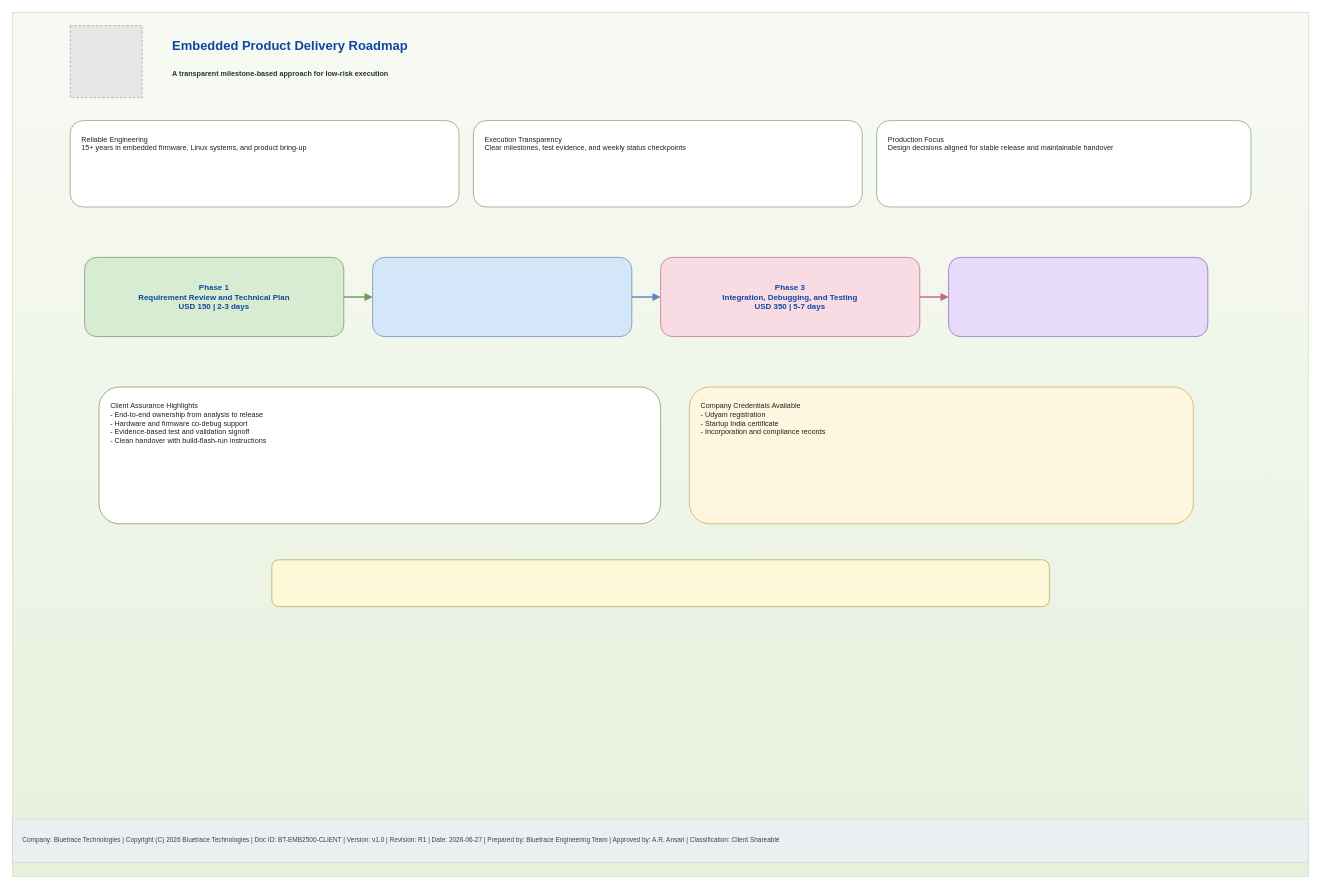
The diagram is 1321 pixels wide and 889 high, and some of its shapes have lost their labels. Grey dashed boxes stand in for pictures. Here are the shapes that lost their labels. From the top down, the centre of each, then its label:
the point at 502,297: Phase 2 Core Firmware or Software Development USD 350 | 5-7 days
the point at 1078,297: Phase 4 Documentation and Final Handover USD 150 | 2-3 days
the point at 660,583: Estimated Overall Timeline: 14 to 20 days
